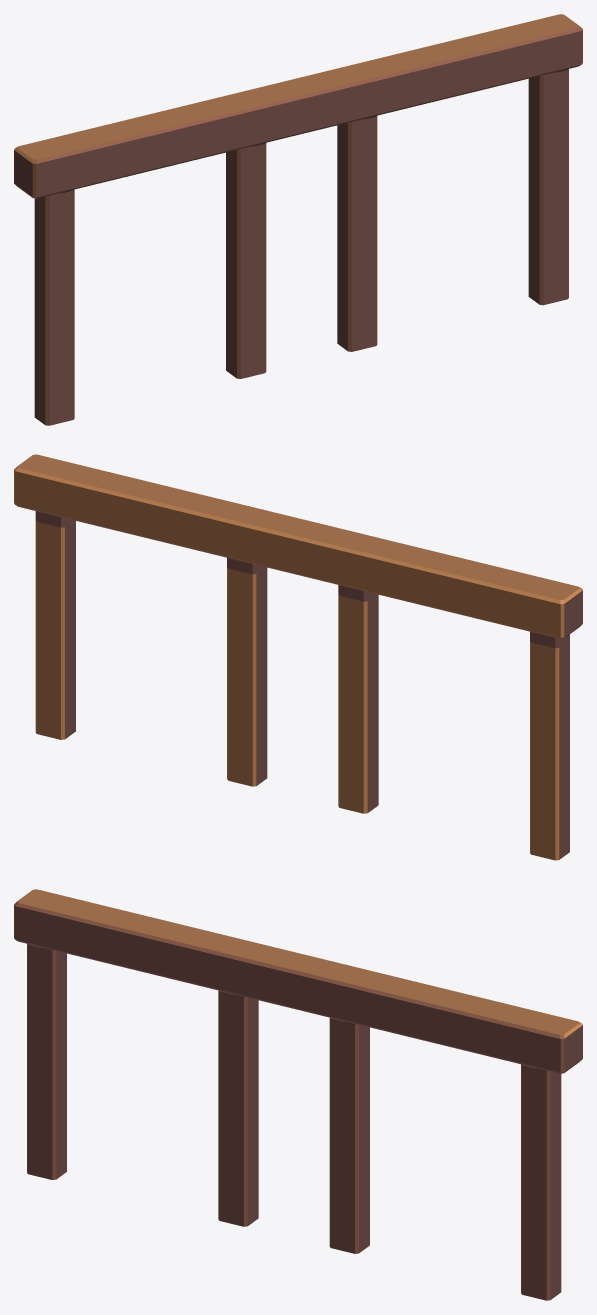
Rendered from EntranceExitFrames_01.FBX.
The picture shows the model from 3 angles, top to bottom: view 1: azimuth 30°, elevation 25°; view 2: azimuth 150°, elevation 25°; view 3: azimuth 330°, elevation 25°; orthographic projection.
Visible parts, largest first — view 1: EntranceExitFrames; view 2: EntranceExitFrames; view 3: EntranceExitFrames.
Part boxes in pixels (x1,y1,x2,y2): EntranceExitFrames: [14, 14, 582, 425]; EntranceExitFrames: [14, 454, 582, 860]; EntranceExitFrames: [14, 889, 582, 1300].
Size of the model in its own units: 446 by 207 by 30.
